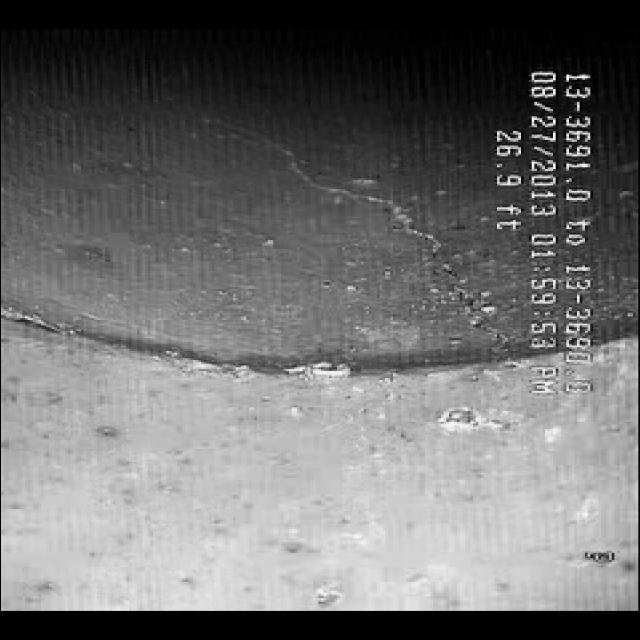Crack: (220, 128, 470, 290)
